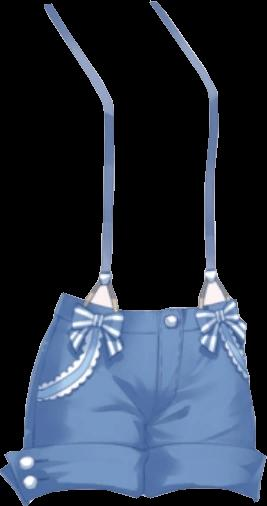Hemline: (23, 485, 146, 505), (147, 482, 262, 503)
Pantleg: (0, 293, 185, 505), (143, 302, 266, 501)
Waistline: (52, 309, 240, 338), (62, 289, 238, 315)
